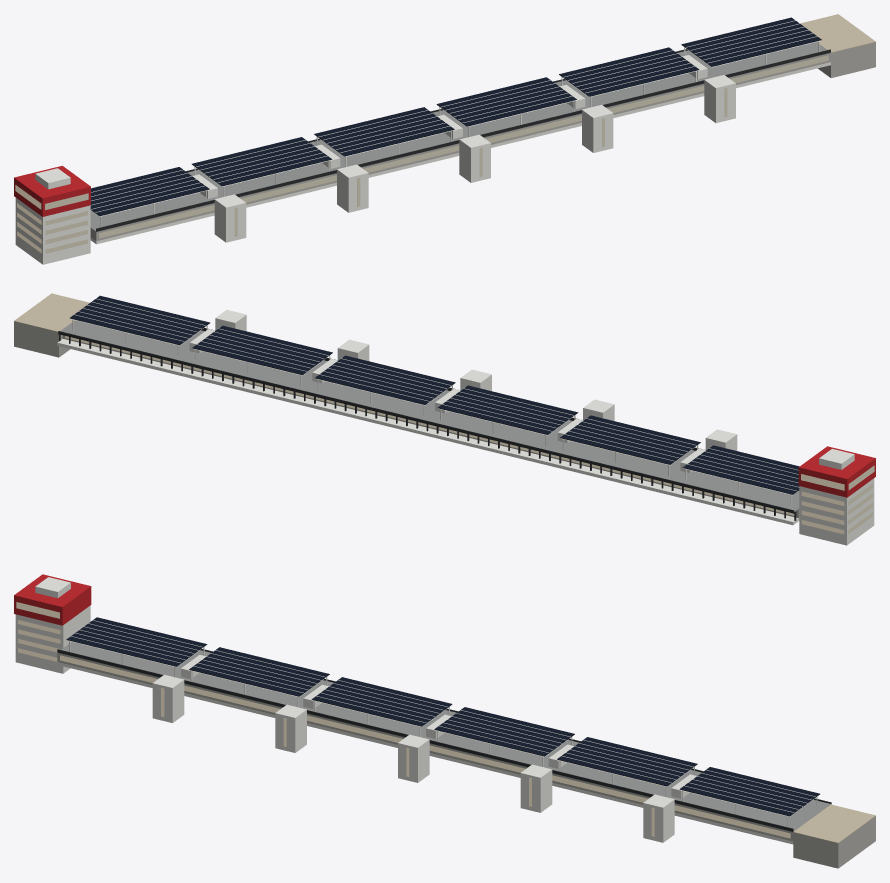
The model's file is cat_pit_upper.glb.
3 renders of one model, top to bottom at view 1: azimuth 30°, elevation 25°; view 2: azimuth 150°, elevation 25°; view 3: azimuth 330°, elevation 25°, orthographic.
Visible parts, largest first — view 1: barcelona-pit-building; view 2: barcelona-pit-building; view 3: barcelona-pit-building.
Part boxes in pixels (x1,y1,x2,y2): barcelona-pit-building: [14, 14, 875, 264]; barcelona-pit-building: [14, 293, 875, 545]; barcelona-pit-building: [14, 574, 875, 868].
Bounding box in the file's own units: 331 × 28 × 39.26.
